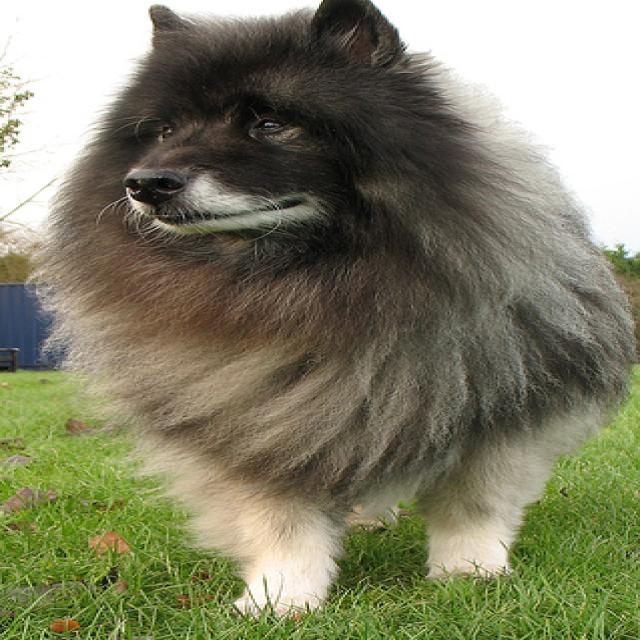dog: (123, 0, 400, 233)
